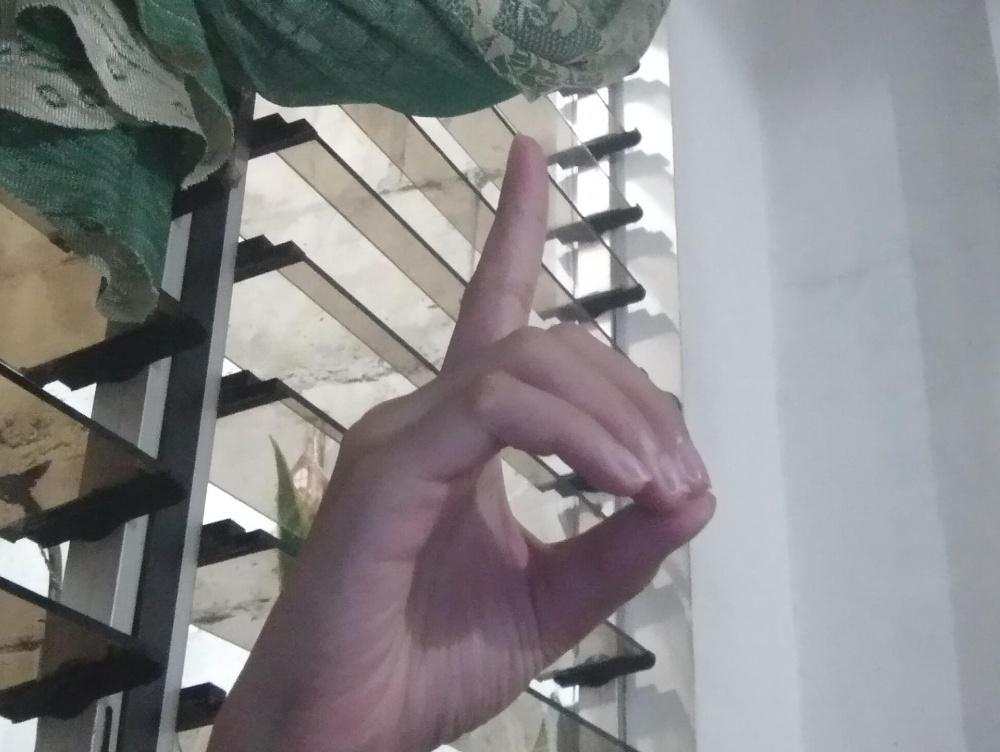d: (250, 127, 720, 744)
